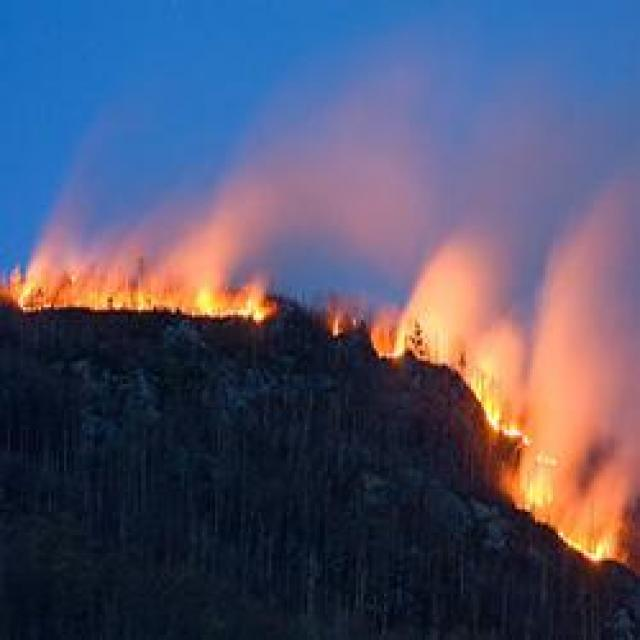fire: (13, 225, 463, 352), (447, 342, 630, 596)
